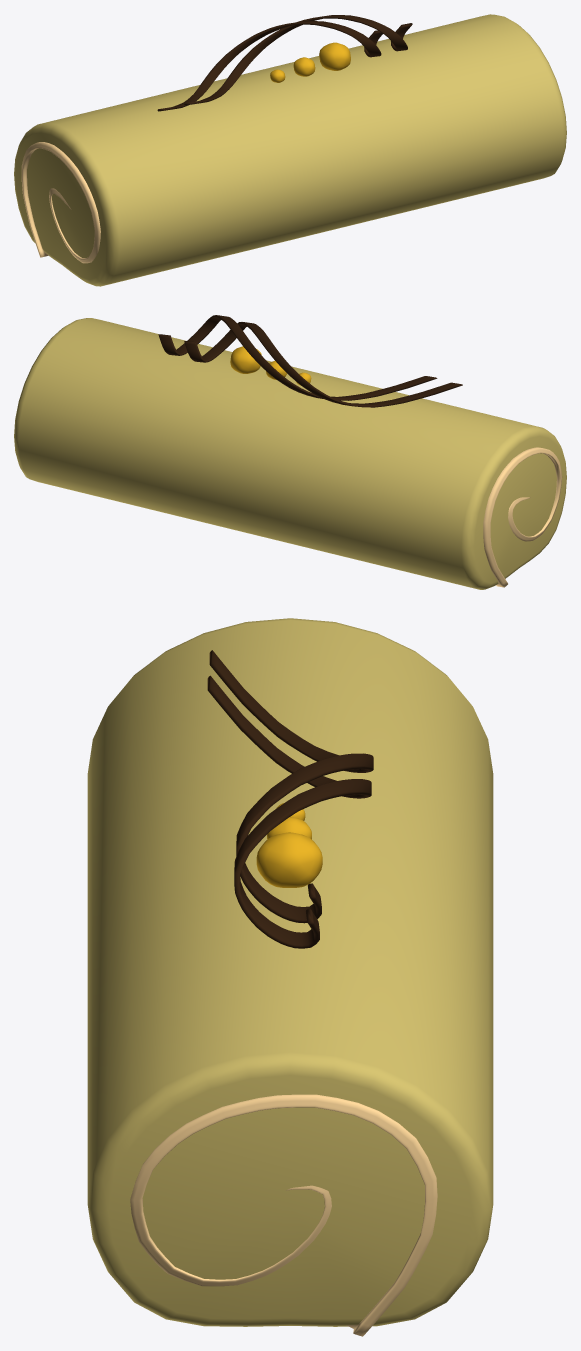
The model's file is BucheFInale.fbx.
The picture shows the model from 3 angles, top to bottom: view 1: azimuth 30°, elevation 25°; view 2: azimuth 150°, elevation 25°; view 3: azimuth 270°, elevation 25°; orthographic projection. The views are drawn at different scales.
Parts seen in each view (by area): view 1: Plane.001; view 2: Plane.001; view 3: Plane.001.
Boxes of the visible parts, x1,y1,x2,y2 form: Plane.001: (14, 14, 566, 286); Plane.001: (14, 315, 566, 589); Plane.001: (87, 618, 493, 1336).
Bounding box in the file's own units: 40 × 15 × 15.
